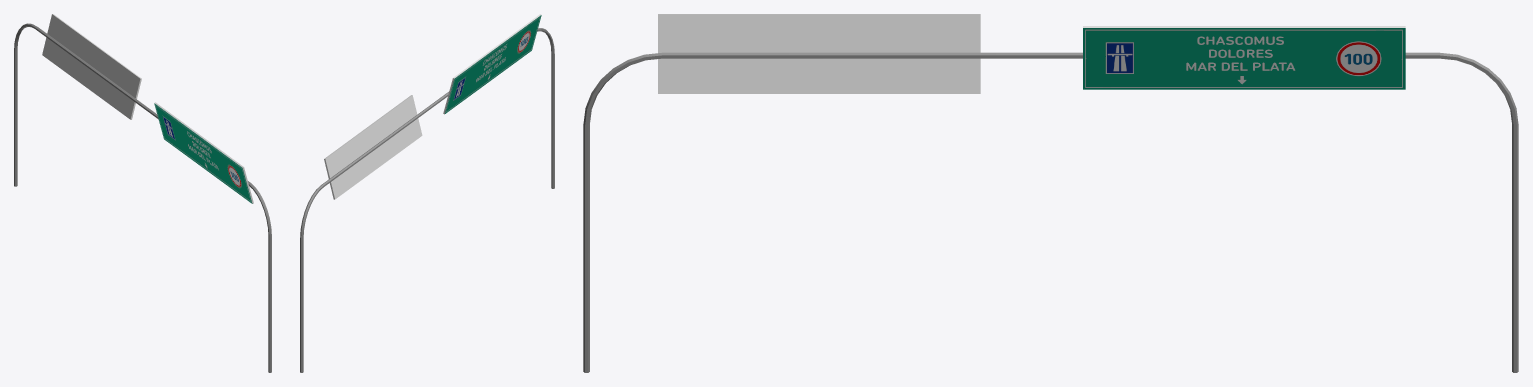
File: CartelMDP.FBX
3 views of the same model, side by side, from view 1: azimuth 30°, elevation 25°; view 2: azimuth 150°, elevation 25°; view 3: azimuth 270°, elevation 25° (orthographic). The views are drawn at different scales.
Parts seen in each view (by area): view 1: Box032, Box031, Rectangle005; view 2: Box032, Box031, Rectangle005; view 3: Box031, Box032, Rectangle005.
Part boxes in pixels (box(x1,y1,x2,y2)): Box032: box(42, 14, 141, 119); Box031: box(154, 102, 253, 203); Rectangle005: box(14, 23, 271, 372); Box032: box(324, 95, 422, 199); Box031: box(443, 14, 541, 114); Rectangle005: box(300, 28, 554, 372); Box031: box(658, 14, 980, 93); Box032: box(1083, 26, 1405, 89); Rectangle005: box(583, 52, 1518, 372).
Bounding box in the file's own units: 1.03 × 12.02 × 28.98.
3 materials, 1 textured.
